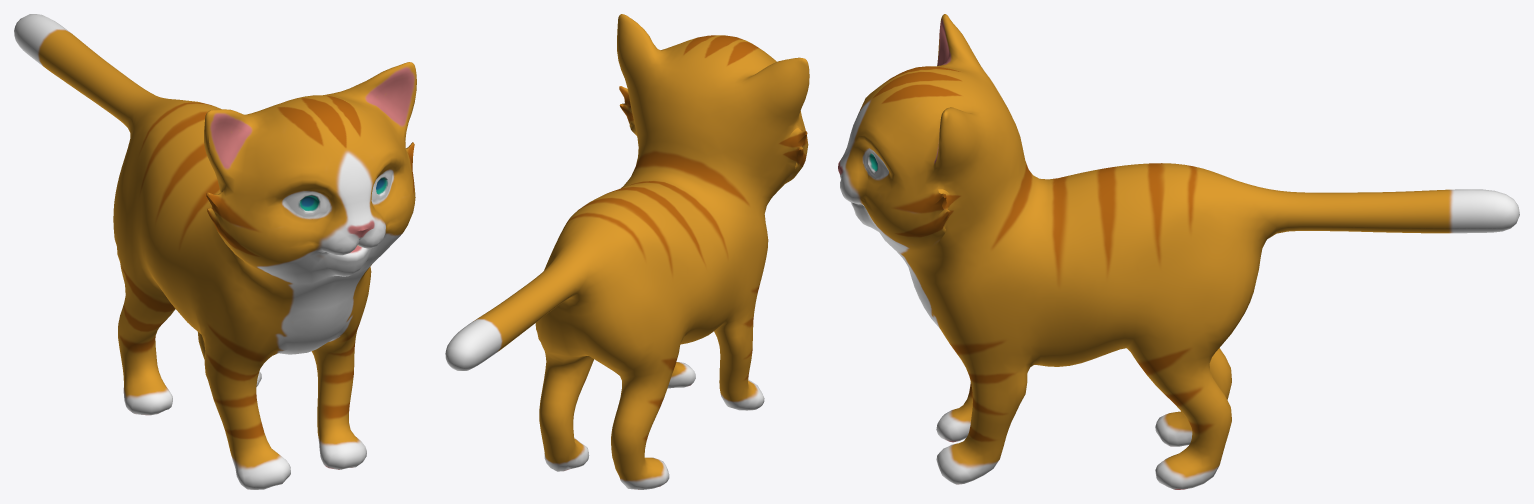
File: CAT_VR.fbx
3 renders of one model, left to right at view 1: azimuth 30°, elevation 25°; view 2: azimuth 150°, elevation 25°; view 3: azimuth 270°, elevation 25°, orthographic. The views are drawn at different scales.
Parts seen in each view (by area): view 1: Baking:VRcat_Game_mesh:Group51017; view 2: Baking:VRcat_Game_mesh:Group51017; view 3: Baking:VRcat_Game_mesh:Group51017.
Boxes of the visible parts, x1,y1,x2,y2 form: Baking:VRcat_Game_mesh:Group51017: (14, 14, 416, 489); Baking:VRcat_Game_mesh:Group51017: (445, 14, 809, 489); Baking:VRcat_Game_mesh:Group51017: (838, 14, 1519, 489).
Bounding box in the file's own units: 1.56 × 2.82 × 4.37.
Materials: 1 (1 with a texture image).
